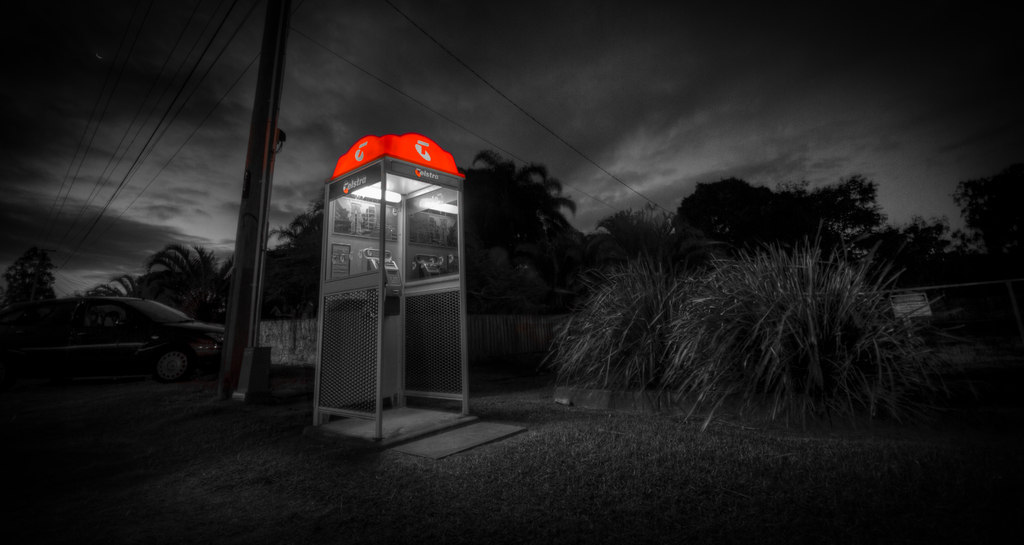car: (3, 271, 250, 382)
